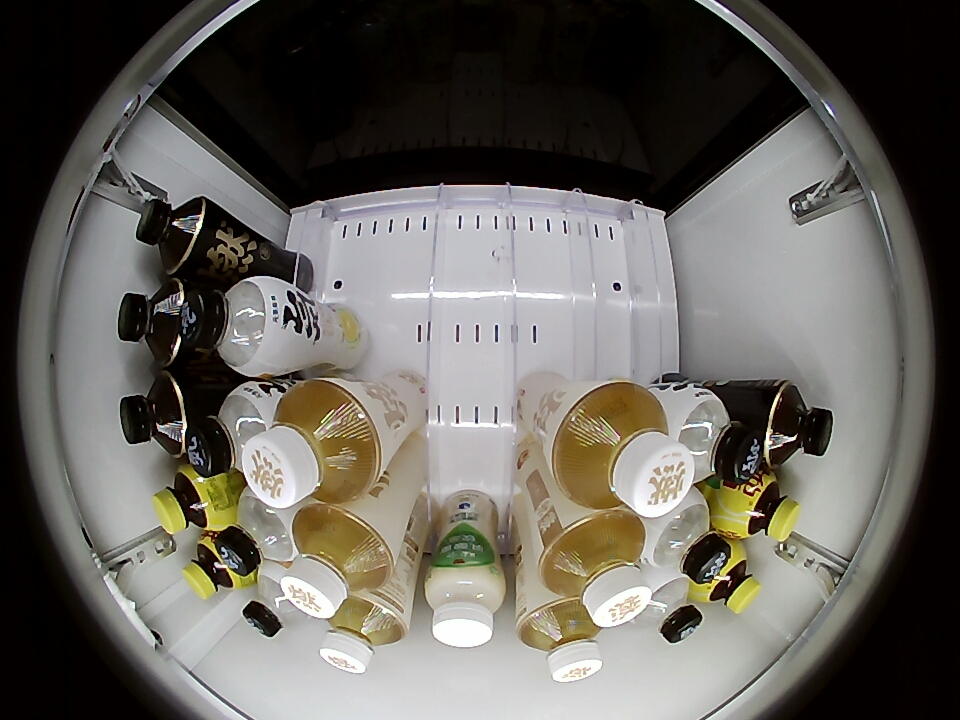rancha-1: (117, 278, 189, 366), (762, 382, 834, 467), (119, 370, 188, 456), (136, 195, 207, 272)
rancha-2: (547, 381, 695, 517), (243, 378, 384, 508), (536, 510, 651, 628), (282, 504, 394, 619), (517, 595, 604, 683), (321, 591, 408, 675)
weitaningmeng-bottle: (724, 471, 802, 543), (153, 465, 229, 534), (697, 546, 762, 614), (182, 534, 248, 600)
yousuanru: (424, 558, 506, 648)
yuanqishui: (181, 276, 291, 377), (664, 386, 761, 484), (186, 382, 281, 479), (637, 489, 730, 583), (215, 492, 300, 575), (626, 570, 702, 644), (243, 562, 309, 637)
